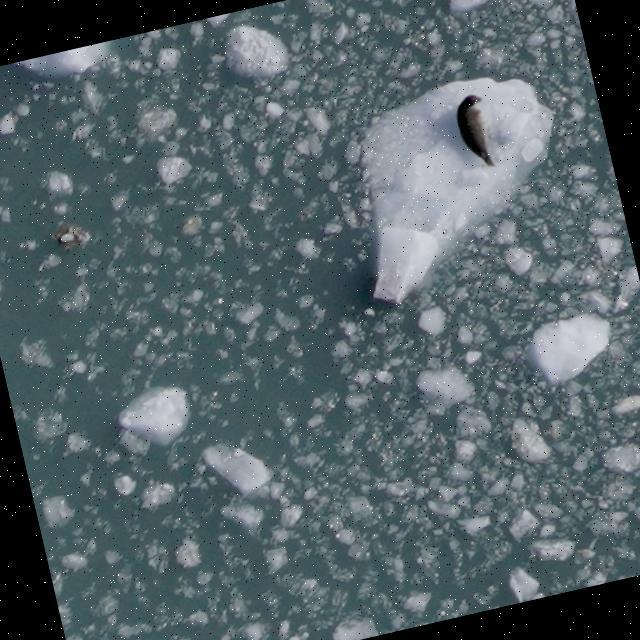seal: (451, 88, 503, 176)
